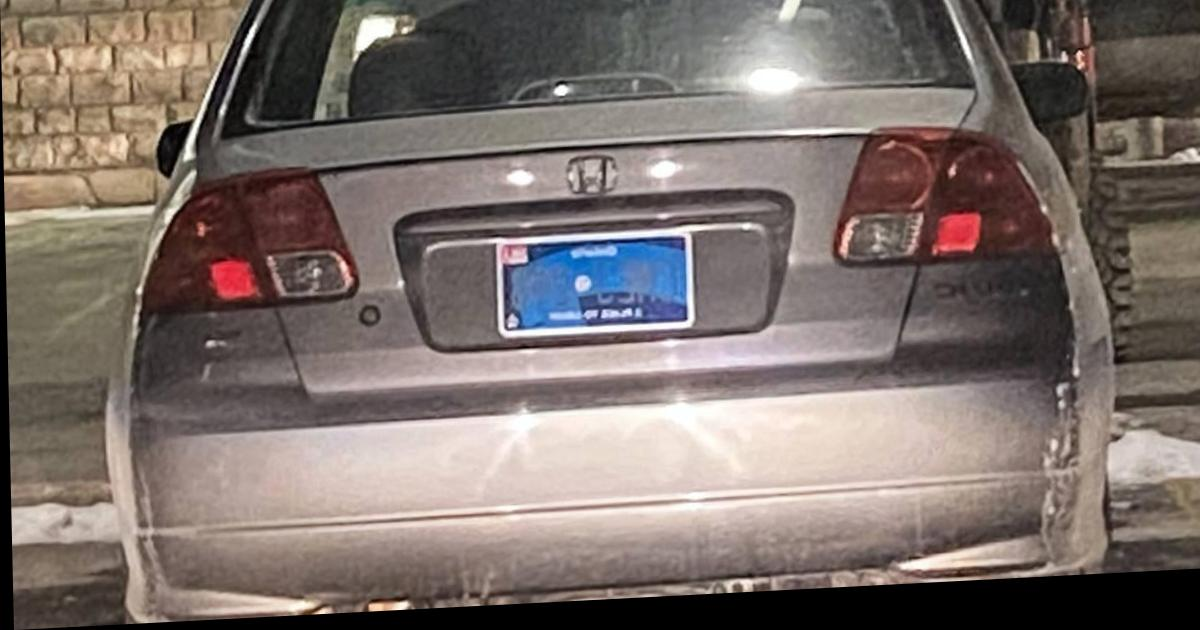License_Plate: (493, 224, 697, 342)
